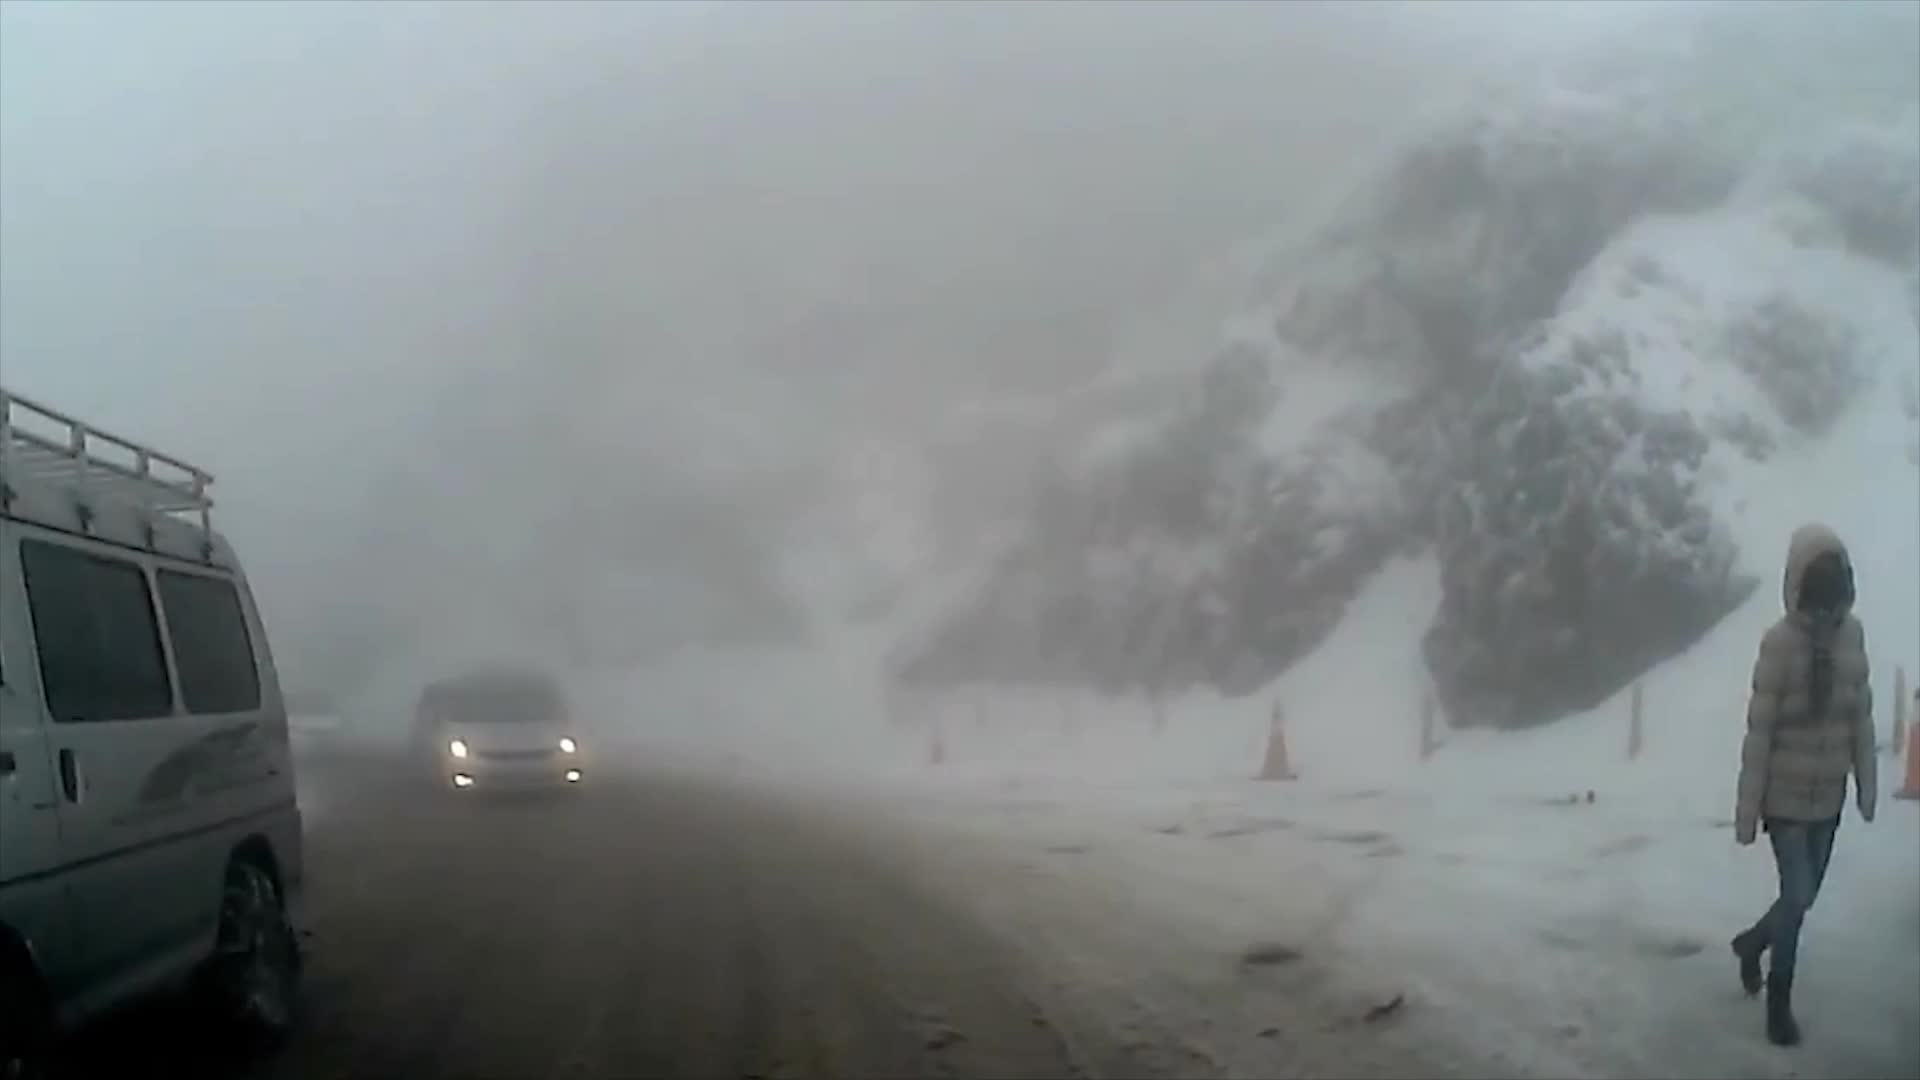pedestrian: (1732, 523, 1882, 1051)
vehicle: (0, 385, 326, 1080), (408, 673, 590, 809)
